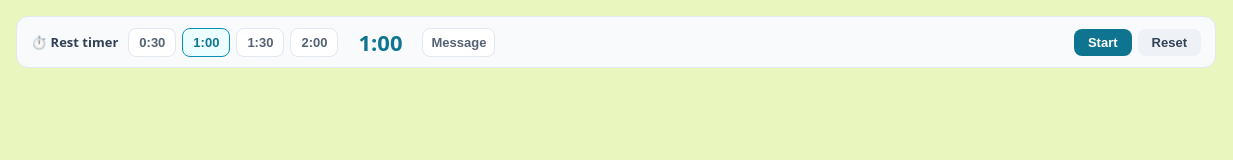
Test: RestTimer › switches presets while idle
Click the button "1:30" at (260, 42), box [236, 28, 284, 56]
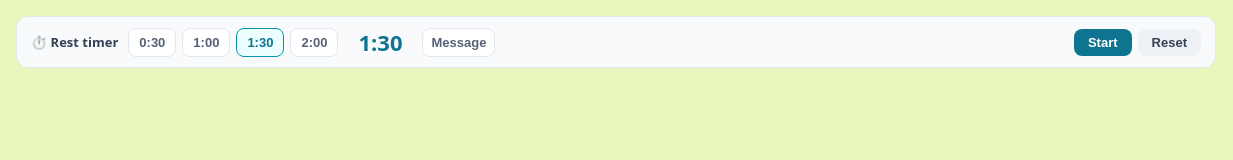
Expected: the text with test id "rest-time" reads "1:30", [358, 27, 402, 57]
